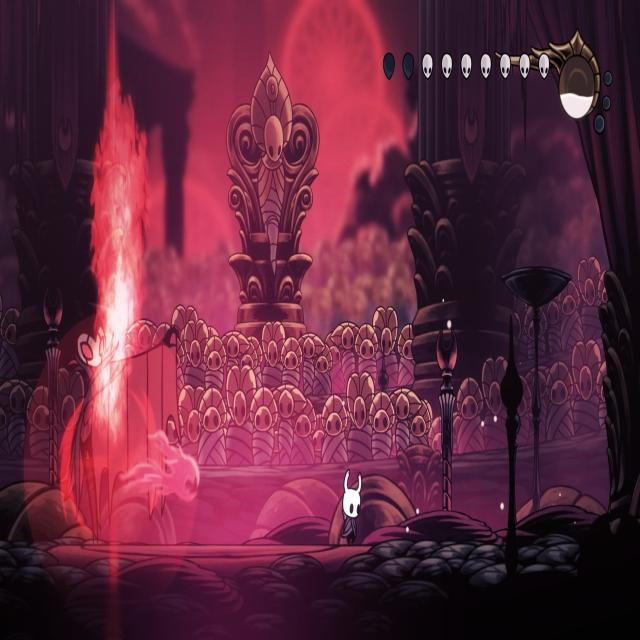Fire Bat: (124, 427, 197, 514)
Open Cloak: (56, 296, 190, 545)
Player: (338, 465, 362, 549)
